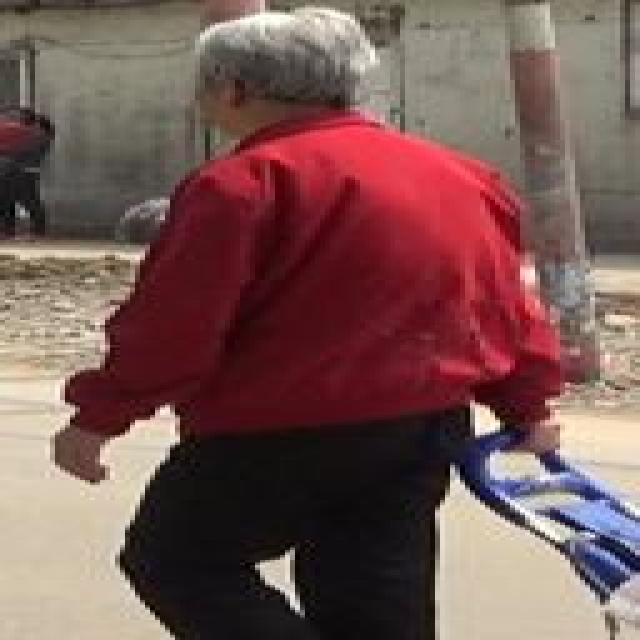adult: (56, 7, 580, 640), (0, 105, 57, 244)
